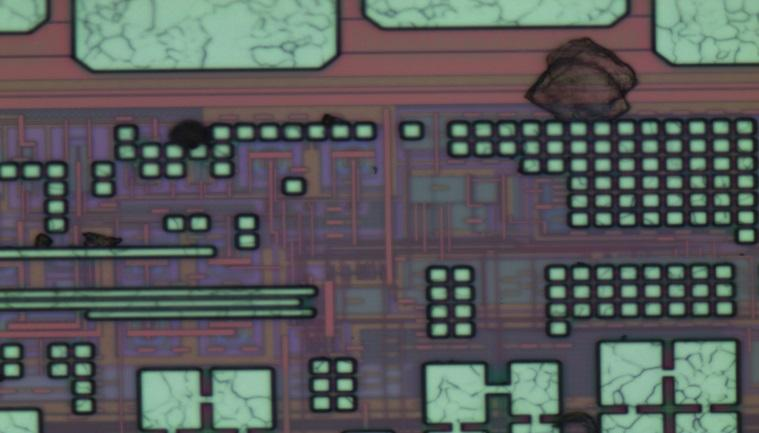PO CONTAMINATION: (22, 24, 645, 264)
